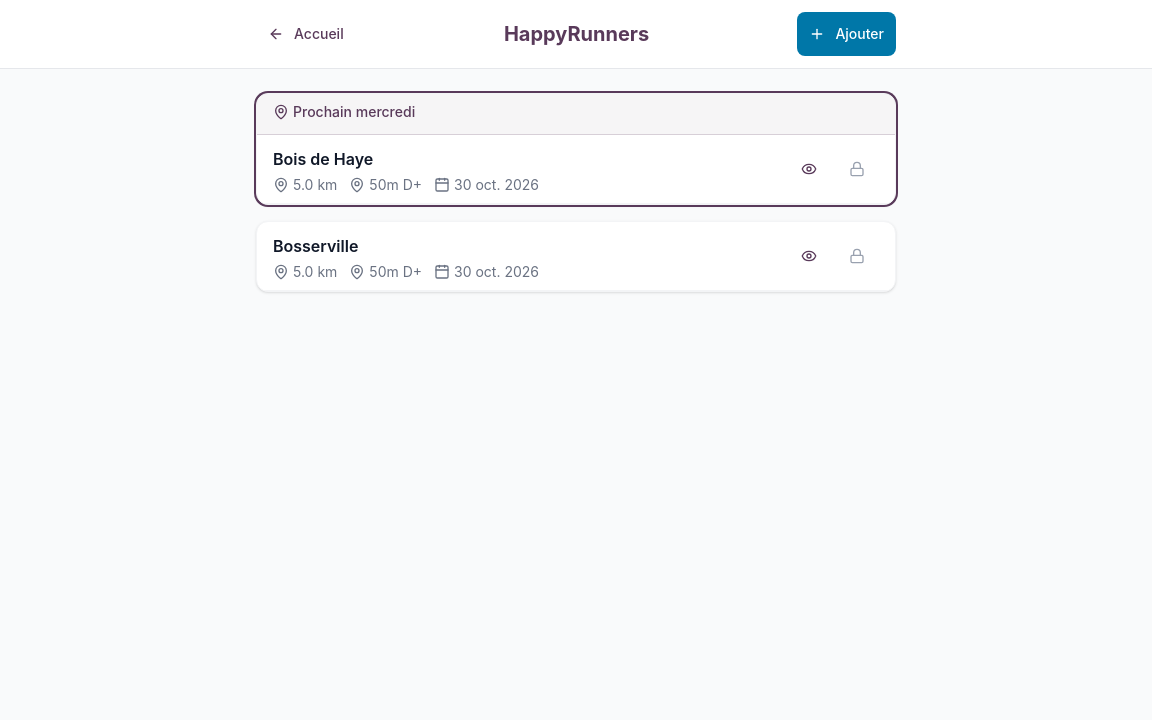
Test: ParcoursList — code administrateur › Échap ferme la demande de code sans déverrouiller
Expected: the heading "Bois de Haye" is shown, 273,149 -> 373,169
Click the button named "Déverrouiller la gestion des parcours" in the row of "Bois de Haye": (857,169) 835,147 -> 879,191
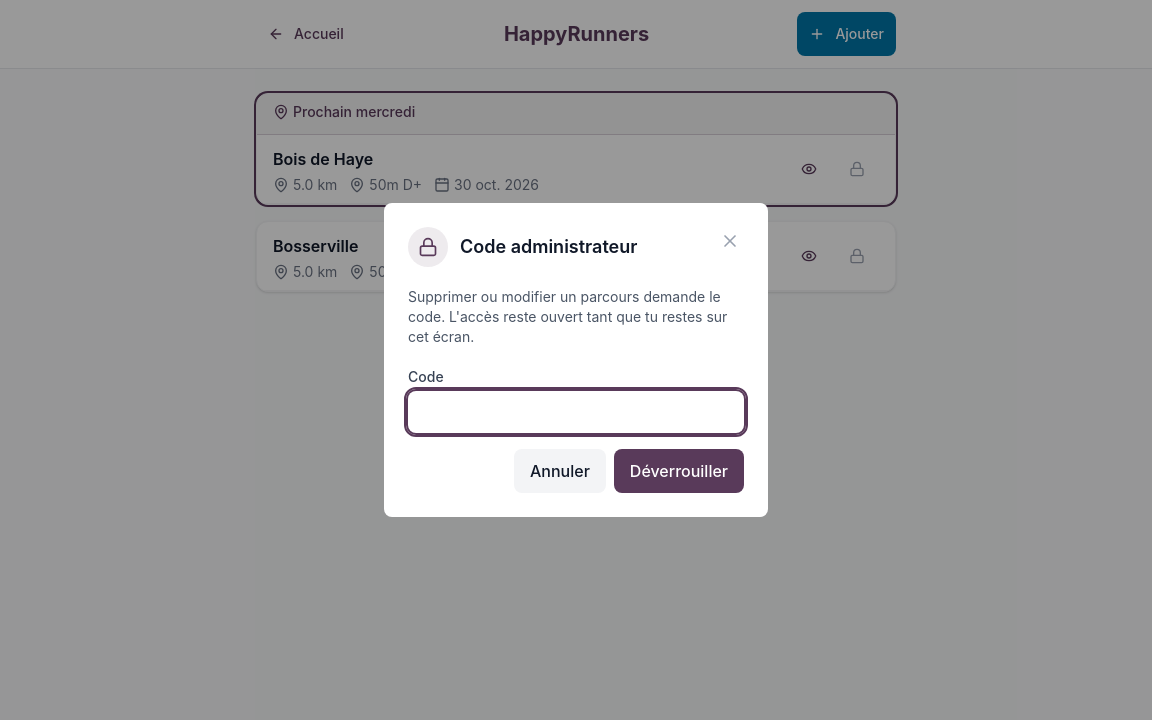
Result: the dialog is shown
Press Escape
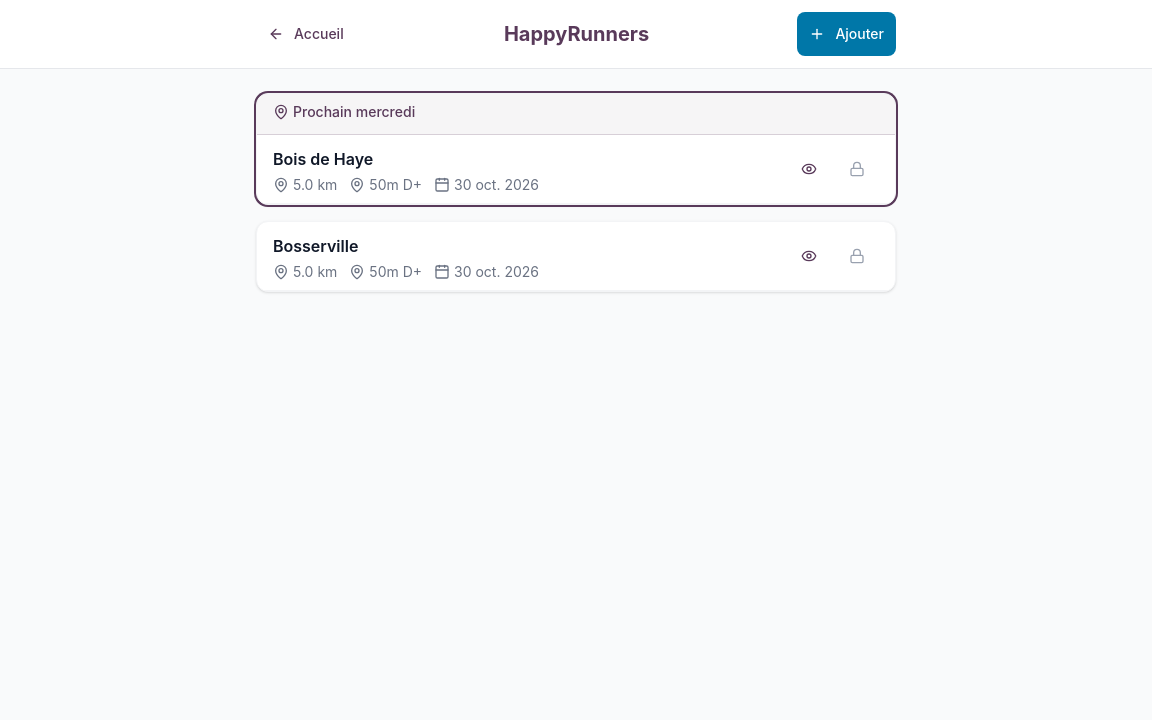
Result: the dialog is gone
Result: the text labelled "Supprimer" is gone
